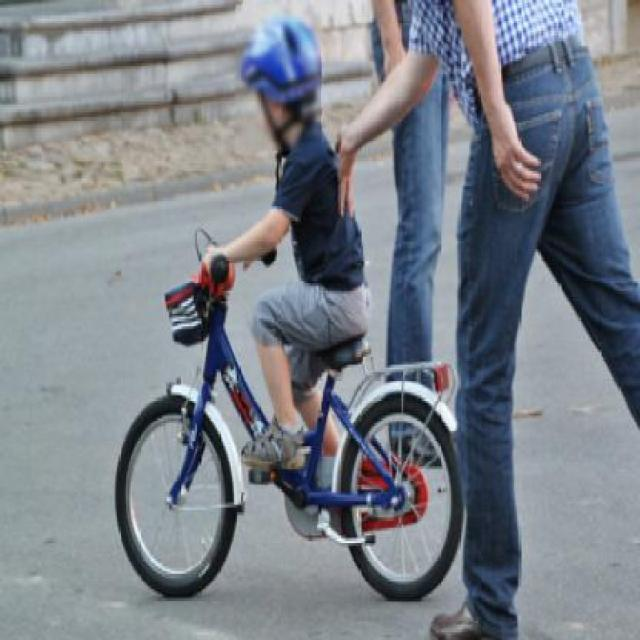With Helmet: (236, 6, 322, 154)
